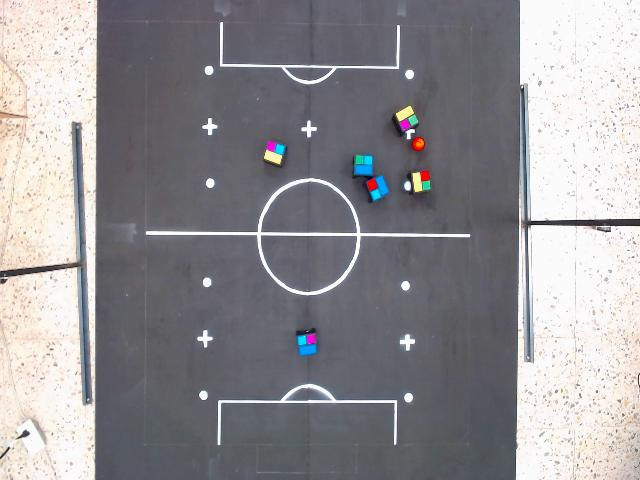robot: (394, 104, 421, 133), (261, 139, 288, 167), (365, 174, 391, 203), (409, 168, 433, 194), (295, 333, 320, 357), (352, 153, 375, 178)
